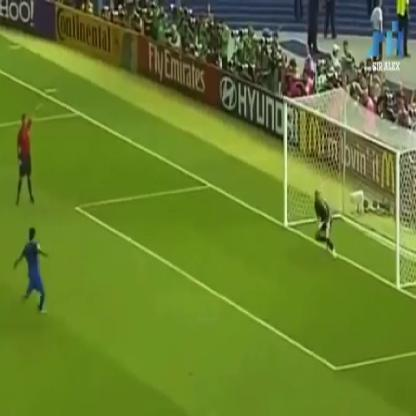penalty kick: (4, 83, 410, 308)
